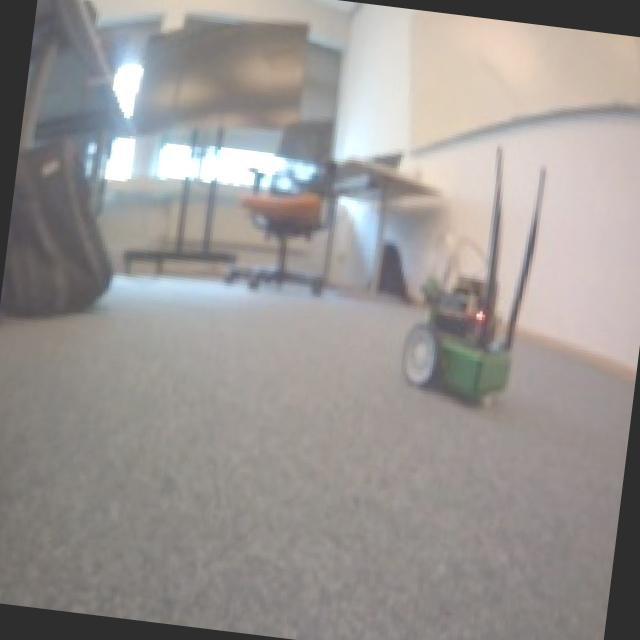robot: (399, 269, 525, 411)
